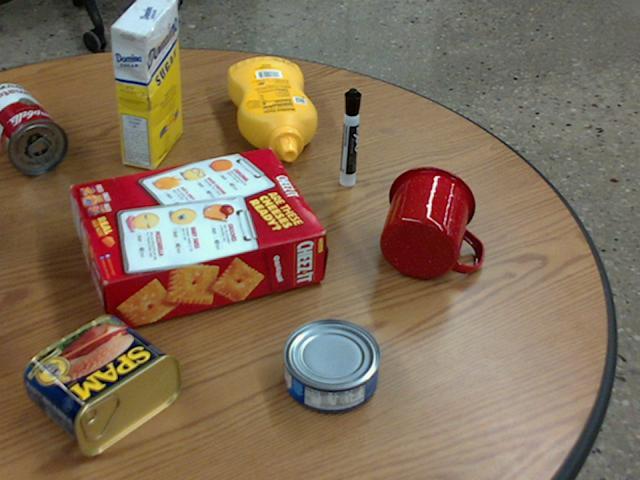cracker_box: (73, 149, 326, 331)
large_marker: (341, 88, 361, 185)
mug: (381, 166, 484, 278)
mustard_bottle: (227, 57, 317, 160)
potted_meat_can: (21, 313, 179, 455)
sugar_box: (111, 0, 182, 169)
tomato_soup_can: (0, 83, 68, 173)
tuna_fish_can: (281, 319, 379, 412)
